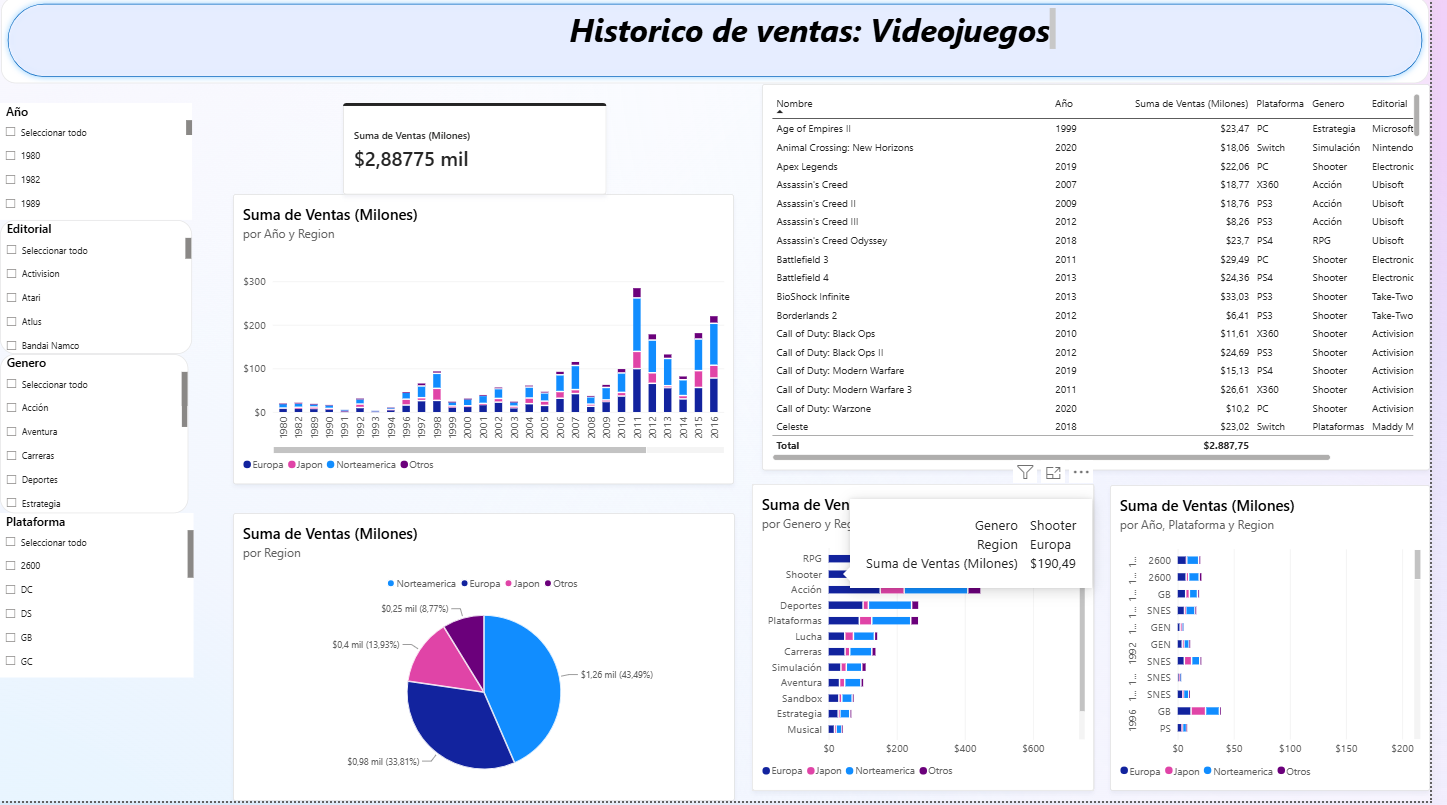

The page's visual inventory and layout, read from the dashboard file:
{"tool":"powerbi","page":{"name":"Reporte de Ventas","canvas":[1920,1080],"ordinal":0},"visuals":[{"type":"shape","box":[1.7,0,1918.3,116.4],"z":0},{"type":"tableEx","fields":{"Values":["VentasVideojuegos.Nombre","VentasVideojuegos.Año","Sum(VentasVideojuegos.Ventas (Milones))","VentasVideojuegos.Plataforma","VentasVideojuegos.Genero","VentasVideojuegos.Editorial"]},"box":[1023.3,116.4,896.7,518.5],"z":1000},{"type":"columnChart","fields":{"Category":["VentasVideojuegos.Año"],"Series":["VentasVideojuegos.Region"],"Y":["Sum(VentasVideojuegos.Ventas (Milones))"]},"box":[313.2,265.2,672.5,390.2],"z":2000},{"type":"pieChart","fields":{"Category":["VentasVideojuegos.Region"],"Y":["Sum(VentasVideojuegos.Ventas (Milones))"]},"box":[313.2,693,674.2,386.7],"z":3000},{"type":"barChart","fields":{"Category":["VentasVideojuegos.Año","VentasVideojuegos.Plataforma"],"Series":["VentasVideojuegos.Region"],"Y":["Sum(VentasVideojuegos.Ventas (Milones))"]},"box":[1490.5,655.4,429.5,410.7],"z":4000},{"type":"barChart","fields":{"Category":["VentasVideojuegos.Genero"],"Series":["VentasVideojuegos.Region"],"Y":["Sum(VentasVideojuegos.Ventas (Milones))"]},"box":[1009.6,653.7,460.3,412.4],"z":5000},{"type":"cardVisual","fields":{"Data":["Sum(VentasVideojuegos.Ventas (Milones))"]},"box":[460.3,142,354.2,123.2],"z":6000},{"type":"slicer","fields":{"Values":["VentasVideojuegos.Plataforma"]},"box":[0,693,260.1,220.7],"z":7000},{"type":"slicer","fields":{"Values":["VentasVideojuegos.Genero"]},"box":[0,479.1,253.3,213.9],"z":8000},{"type":"slicer","fields":{"Values":["VentasVideojuegos.Editorial"]},"box":[0,299.5,258.4,179.7],"z":9000},{"type":"slicer","fields":{"Values":["VentasVideojuegos.Año"]},"box":[0,142,258.4,157.4],"z":10000},{"type":"textbox","box":[0,914,260,166],"z":11000},{"type":"textbox","box":[986,125,934,175],"z":12000},{"type":"textbox","box":[986,125,934,175],"z":13000},{"type":"textbox","box":[986,125,934,175],"z":14000},{"type":"textbox","box":[51.3,15.4,1367.3,56.5],"z":15000}]}

Visuals, with their boxes in screenshot pixels (x1, y1, x2, y2), scaled from the page's 1920x1080 canvas onto the 1447x805 screenshot:
shape: 1/0/1446/87
tableEx - VentasVideojuegos.Nombre x VentasVideojuegos.Año: 771/87/1446/473
columnChart - VentasVideojuegos.Año x VentasVideojuegos.Region: 236/198/743/489
pieChart - VentasVideojuegos.Region x Sum(VentasVideojuegos.Ventas (Milones)): 236/517/744/804
barChart - VentasVideojuegos.Año x VentasVideojuegos.Plataforma: 1123/489/1446/795
barChart - VentasVideojuegos.Genero x VentasVideojuegos.Region: 761/487/1108/795
cardVisual - Sum(VentasVideojuegos.Ventas (Milones)): 347/106/614/198
slicer - VentasVideojuegos.Plataforma: 0/517/196/681
slicer - VentasVideojuegos.Genero: 0/357/191/517
slicer - VentasVideojuegos.Editorial: 0/223/195/357
slicer - VentasVideojuegos.Año: 0/106/195/223
textbox: 0/681/196/804
textbox: 743/93/1446/224
textbox: 743/93/1446/224
textbox: 743/93/1446/224
textbox: 39/11/1069/54
